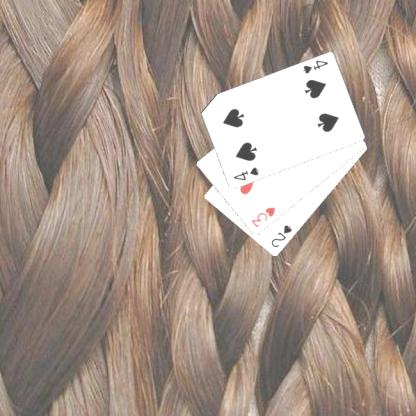2S: (268, 222, 293, 249)
3H: (248, 204, 277, 229)
4S: (300, 57, 330, 76), (230, 165, 260, 182)
